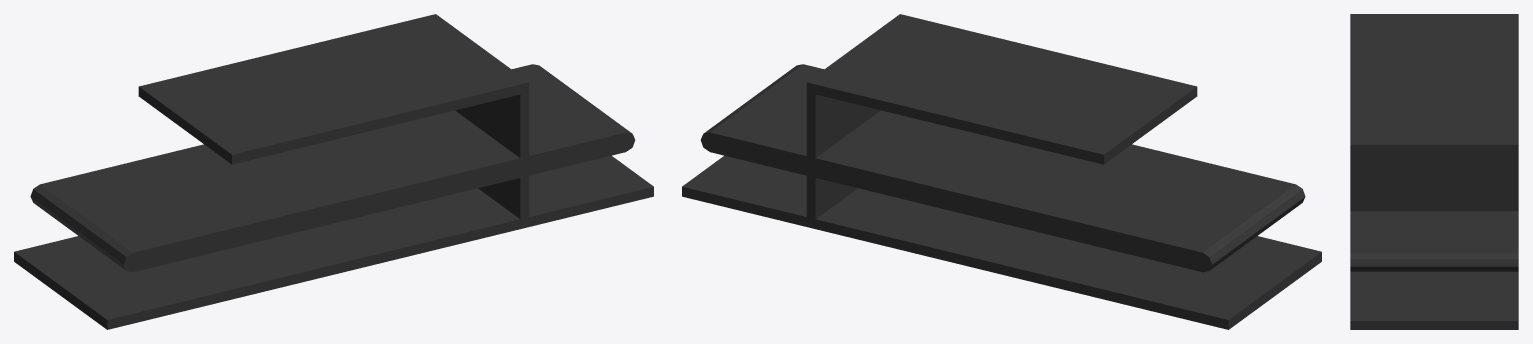
The model's file is shelf_3.glb.
The picture shows the model from 3 angles, left to right: view 1: azimuth 30°, elevation 25°; view 2: azimuth 150°, elevation 25°; view 3: azimuth 270°, elevation 25°; orthographic projection. The views are drawn at different scales.
Visible parts, largest first — view 1: Wall Shelf 4, Wall Shelf 2; view 2: Wall Shelf 4, Wall Shelf 2; view 3: Wall Shelf 4, Wall Shelf 2.
Part boxes in pixels (x1,y1,x2,y2): Wall Shelf 4: [14, 14, 653, 329]; Wall Shelf 2: [30, 64, 635, 272]; Wall Shelf 4: [682, 14, 1321, 329]; Wall Shelf 2: [700, 64, 1305, 272]; Wall Shelf 4: [1350, 14, 1518, 329]; Wall Shelf 2: [1350, 211, 1518, 271].
Bounding box in the file's own units: 1.43 × 0.3629 × 0.4243.
Materials: 2 (2 with a texture image).
